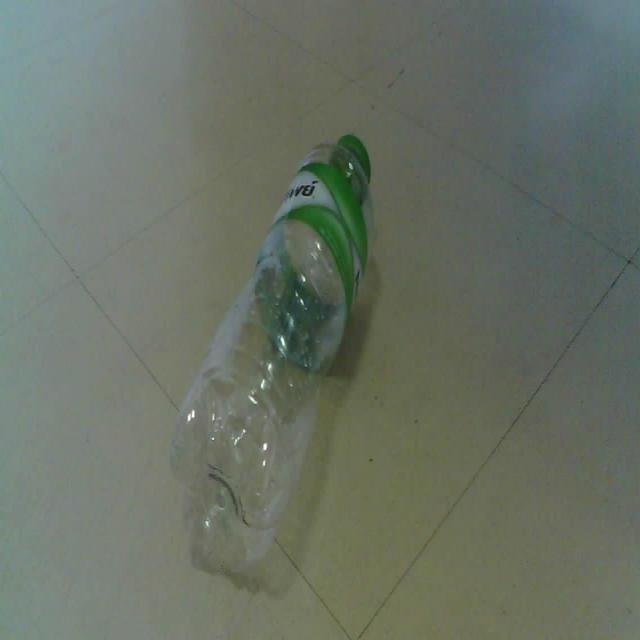empty: (172, 135, 372, 570)
